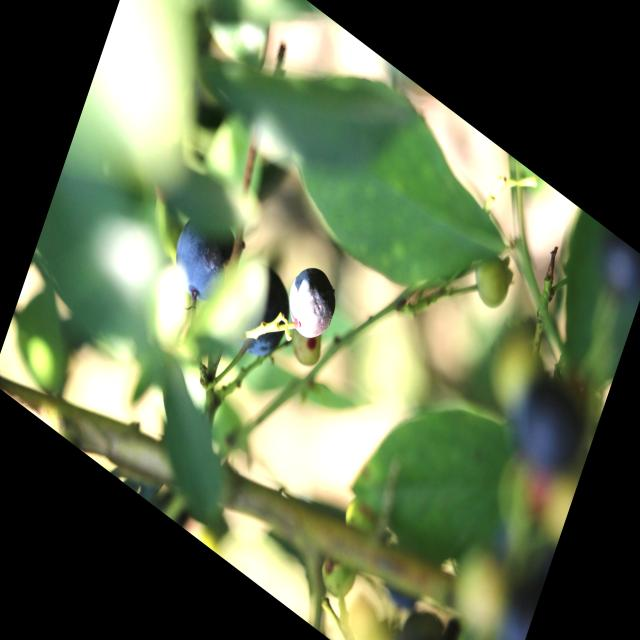blueberry: (495, 344, 605, 500), (158, 186, 252, 329), (218, 245, 303, 378), (476, 506, 560, 640), (274, 246, 351, 362), (580, 221, 640, 315), (387, 614, 459, 640)
blueberry-unripe: (275, 304, 331, 377), (467, 251, 517, 321)
